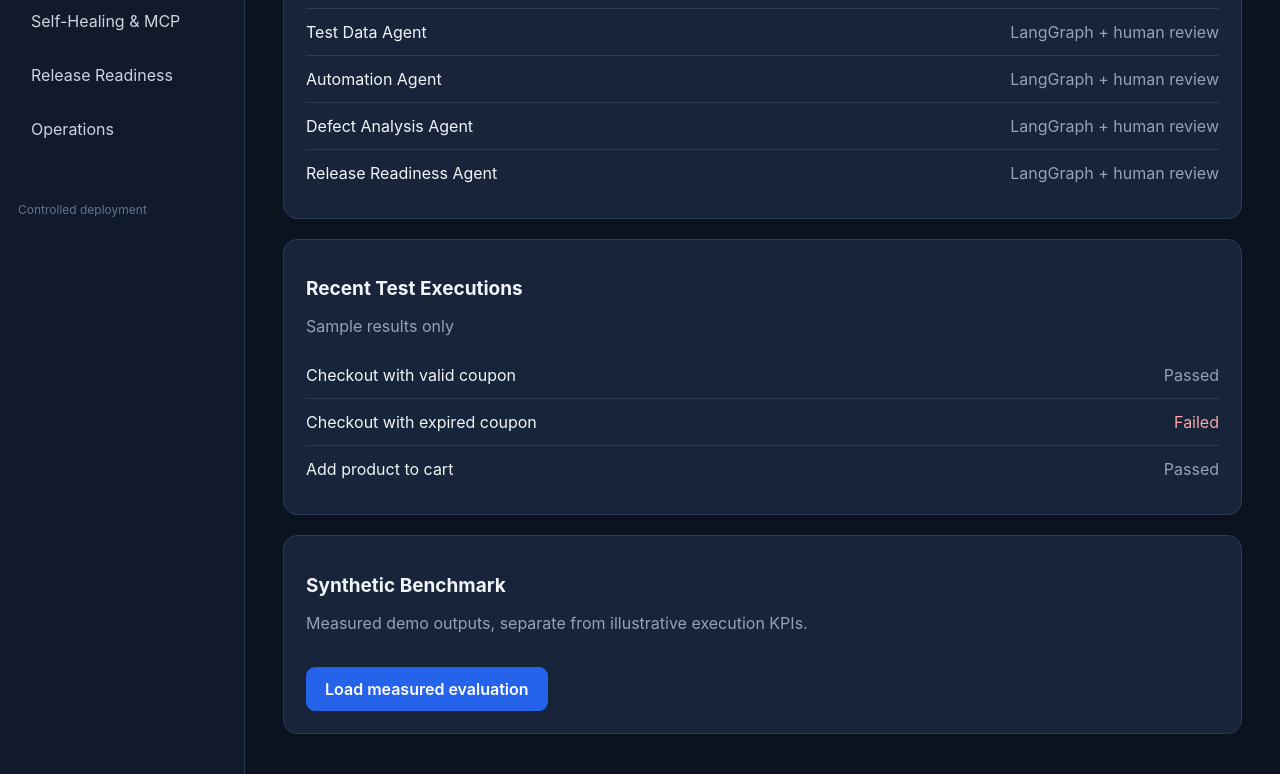
Scenario: dashboard loads measured demo evaluation
(page scrolled)
Click the button "Load measured evaluation" at (427,689), box [306,667,548,711]
(page scrolled)
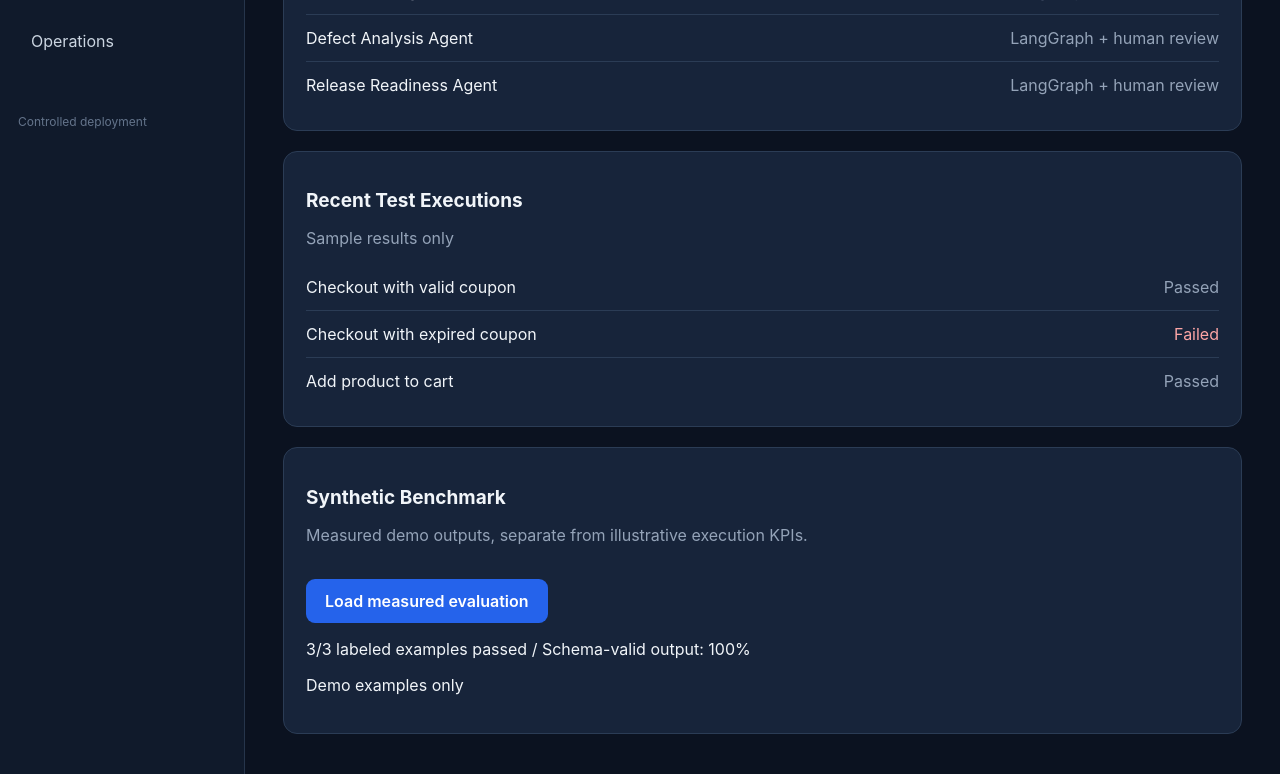
Expected: the text "3/3 labeled examples passed / Schema-valid output: 100%" is shown, [306,639,751,659]
Expected: the text "Demo examples only" is shown, [306,675,464,695]
